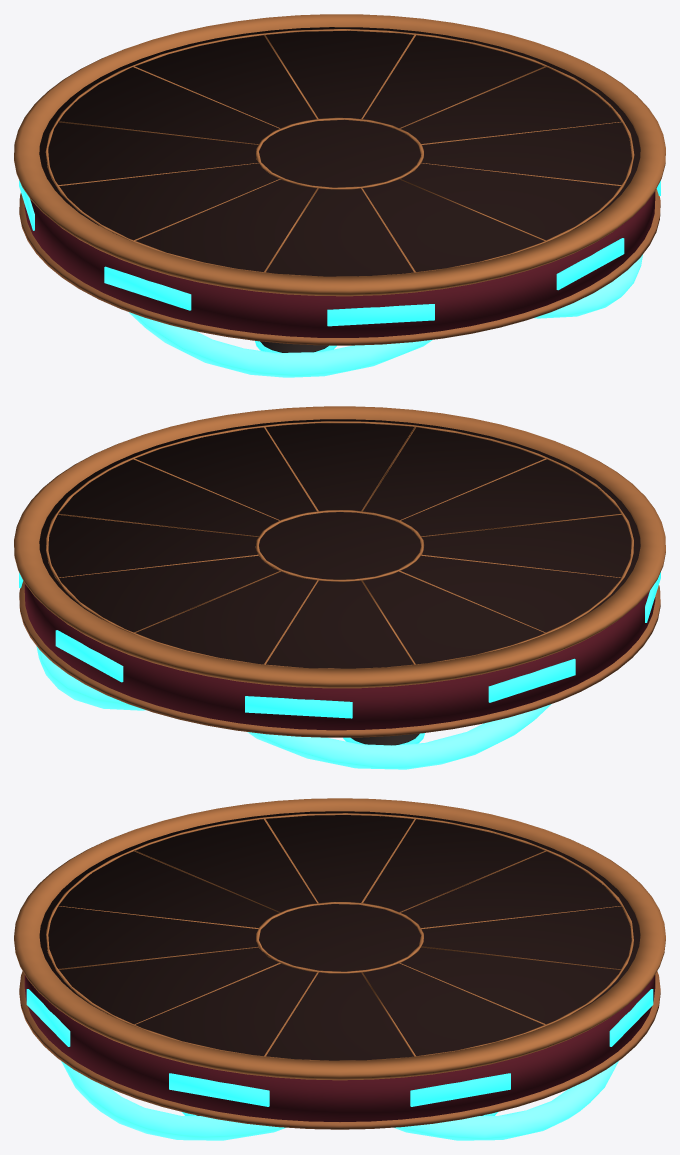
Rendered from Platform_Standard.glb.
3 renders of one model, top to bottom at view 1: azimuth 30°, elevation 25°; view 2: azimuth 150°, elevation 25°; view 3: azimuth 270°, elevation 25°, orthographic.
Visible parts, largest first — view 1: exNh_H_Deck, exNm_M_Lip, exNm_M_Rim, exNm_M_UTubes, exNh_H_DeckInlay, exNm_M_RimFoot, exNm_M_RimNeon; view 2: exNh_H_Deck, exNm_M_Lip, exNm_M_Rim, exNm_M_UTubes, exNh_H_DeckInlay, exNm_M_RimFoot, exNm_M_RimNeon; view 3: exNh_H_Deck, exNm_M_Lip, exNm_M_Rim, exNm_M_UTubes, exNh_H_DeckInlay, exNm_M_RimFoot, exNm_M_RimNeon.
Boxes of the visible parts, bbox=[...] form: exNh_H_Deck: bbox=[39, 27, 640, 276]; exNm_M_Lip: bbox=[14, 14, 665, 296]; exNm_M_Rim: bbox=[24, 191, 655, 337]; exNm_M_UTubes: bbox=[129, 254, 642, 377]; exNh_H_DeckInlay: bbox=[45, 29, 634, 276]; exNm_M_RimFoot: bbox=[19, 189, 660, 345]; exNm_M_RimNeon: bbox=[19, 180, 660, 326]; exNh_H_Deck: bbox=[39, 419, 640, 668]; exNm_M_Lip: bbox=[14, 406, 665, 688]; exNm_M_Rim: bbox=[24, 583, 655, 730]; exNm_M_UTubes: bbox=[36, 646, 551, 769]; exNh_H_DeckInlay: bbox=[46, 421, 633, 668]; exNm_M_RimFoot: bbox=[19, 581, 660, 737]; exNm_M_RimNeon: bbox=[19, 572, 660, 718]; exNh_H_Deck: bbox=[39, 811, 640, 1060]; exNm_M_Lip: bbox=[14, 798, 665, 1080]; exNm_M_Rim: bbox=[24, 975, 655, 1121]; exNm_M_UTubes: bbox=[61, 1061, 618, 1140]; exNh_H_DeckInlay: bbox=[46, 813, 633, 1060]; exNm_M_RimFoot: bbox=[19, 971, 660, 1129]; exNm_M_RimNeon: bbox=[26, 989, 653, 1106].
Bounding box in the file's own units: 12.29 × 2.58 × 12.29.
